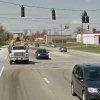Car: (34, 46, 54, 66)
